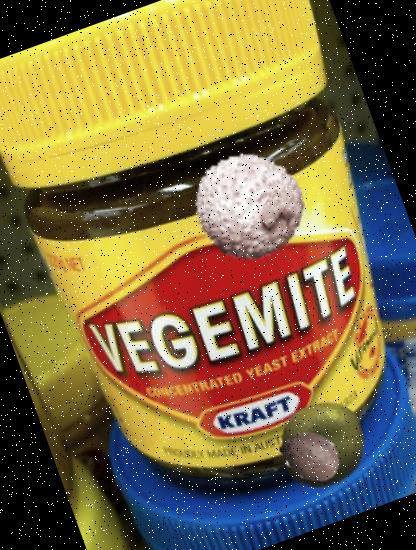Cocos: (274, 418, 350, 494)
Lychee: (177, 132, 322, 278)
Pomelo: (266, 388, 380, 502)
